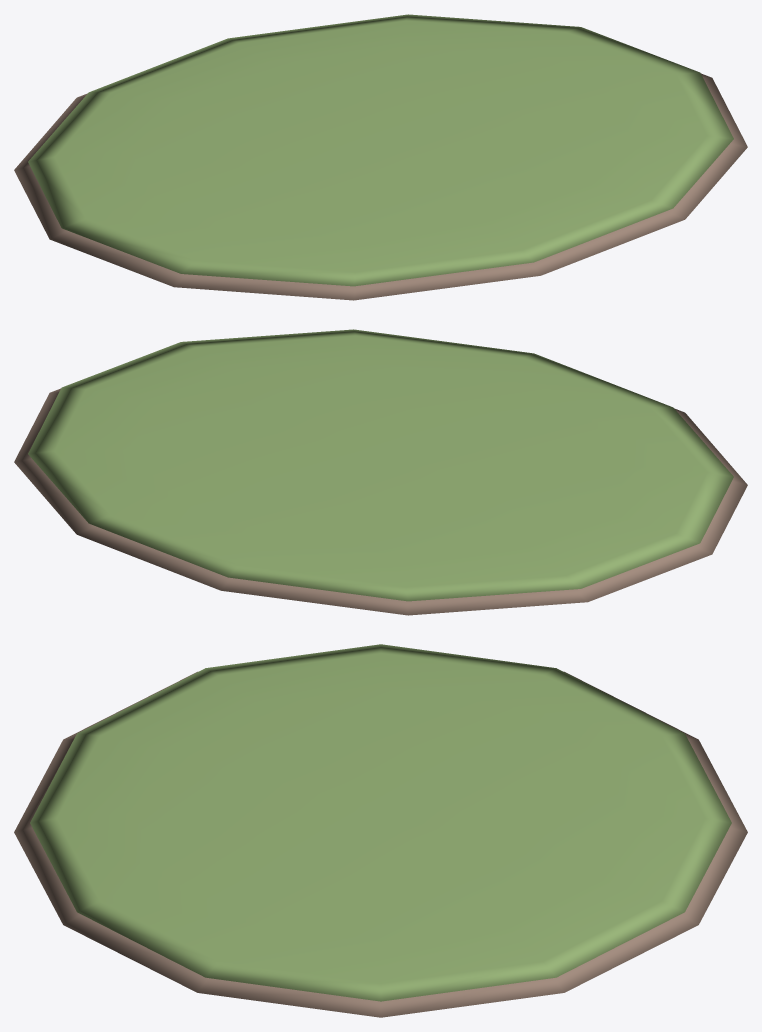
The model's file is lost-valley-dinosaurs-habitat-island-1a3fe4c0__1677.glb.
The picture shows the model from 3 angles, top to bottom: view 1: azimuth 30°, elevation 25°; view 2: azimuth 150°, elevation 25°; view 3: azimuth 270°, elevation 25°; orthographic projection. The views are drawn at different scales.
Parts seen in each view (by area): view 1: habitat-island; view 2: habitat-island; view 3: habitat-island.
Boxes of the visible parts, bbox=[...] form: habitat-island: bbox=[14, 14, 747, 300]; habitat-island: bbox=[14, 329, 747, 615]; habitat-island: bbox=[14, 644, 747, 1017].
Size of the model in its own units: 11 by 0.5396 by 9.2.
